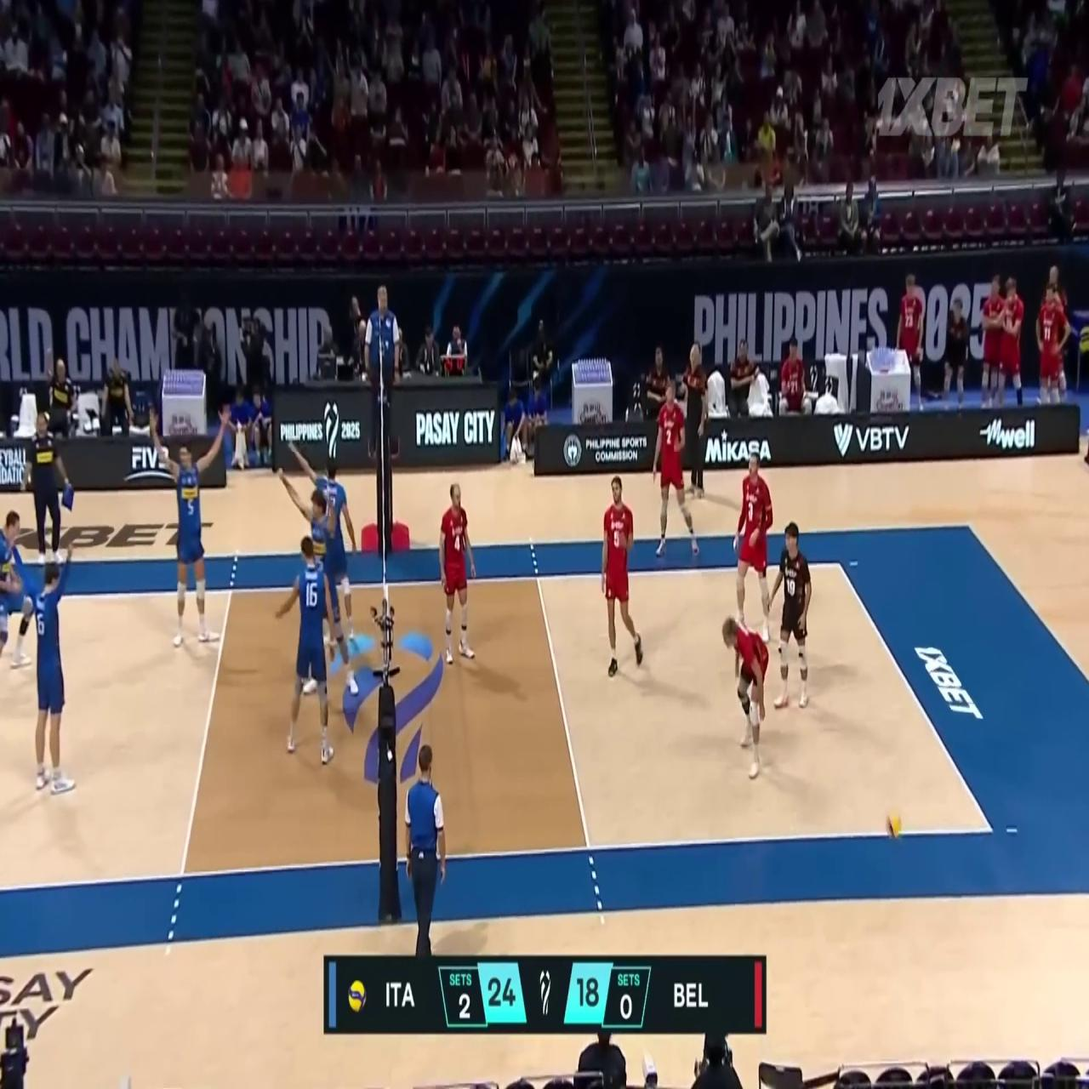ball: (885, 811, 903, 841)
